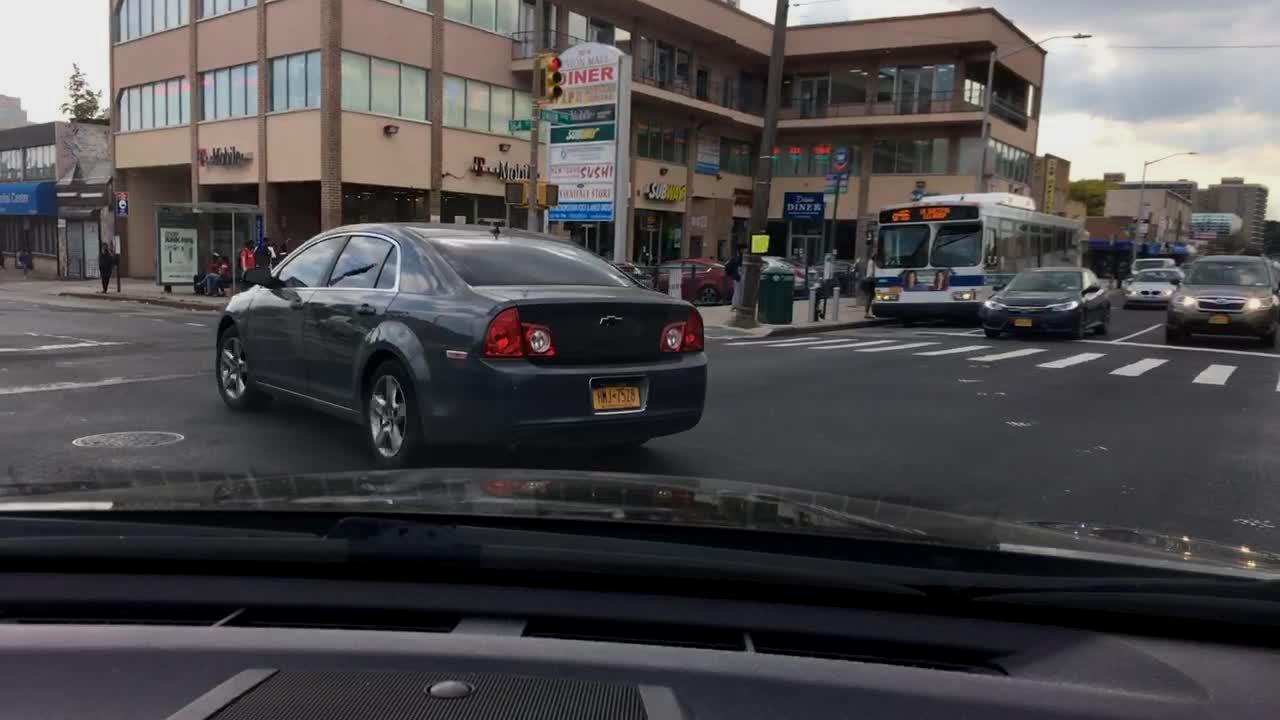chevrolet: (590, 305, 631, 334)
